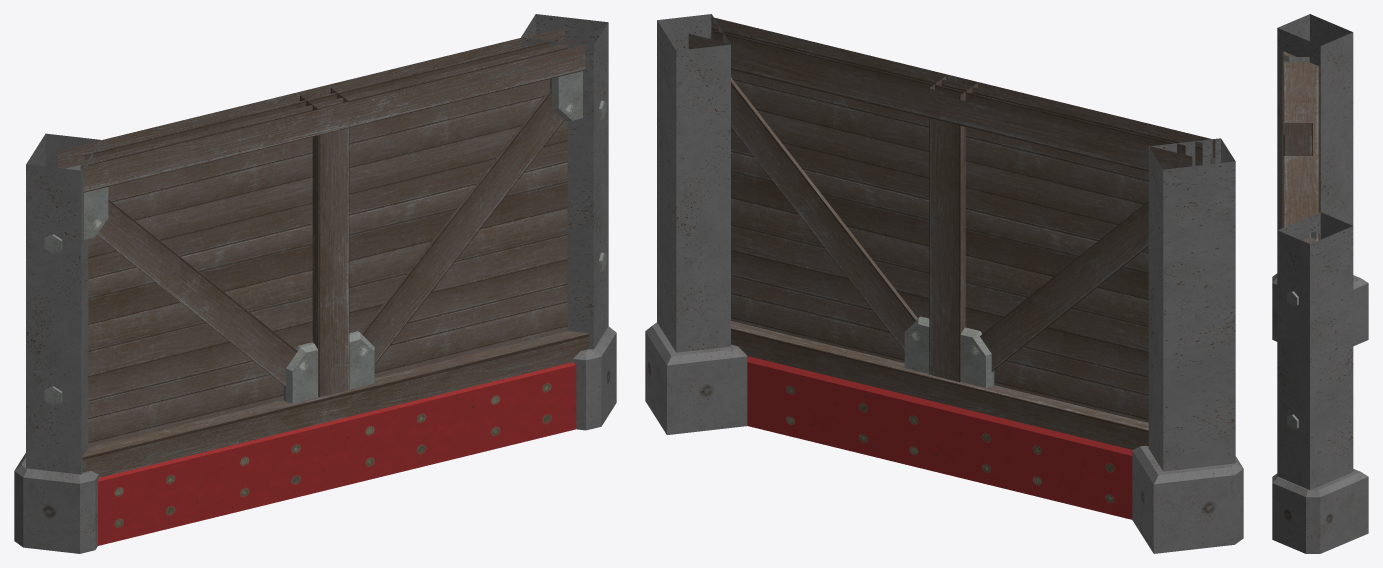
Rendered from Ob_WallSingleEdge_RC.fbx.
The picture shows the model from 3 angles, left to right: view 1: azimuth 30°, elevation 25°; view 2: azimuth 150°, elevation 25°; view 3: azimuth 270°, elevation 25°; orthographic projection. The views are drawn at different scales.
Visible parts, largest first — view 1: Ob_WallSingleEdge_RC; view 2: Ob_WallSingleEdge_RC; view 3: Ob_WallSingleEdge_RC.
Boxes of the visible parts, bbox=[...] form: Ob_WallSingleEdge_RC: bbox=[14, 14, 616, 553]; Ob_WallSingleEdge_RC: bbox=[645, 14, 1243, 553]; Ob_WallSingleEdge_RC: bbox=[1272, 14, 1368, 553].
Size of the model in its own units: 1635 by 1000 by 284.
